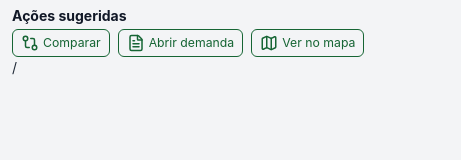
Test: AcoesSugeridas › navega para o destino de cada tipo e ignora tipo desconhecido
Click the button "Comparar".
click(61, 43)  # box [12, 29, 110, 57]
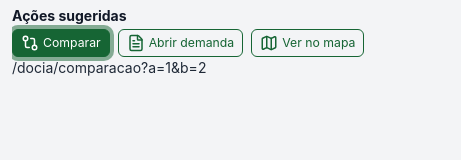
Now the text with test id "local" reads "/docia/comparacao?a=1&b=2", box [12, 59, 206, 76]
Click the button "Abrir demanda".
click(180, 43)  # box [118, 29, 243, 57]
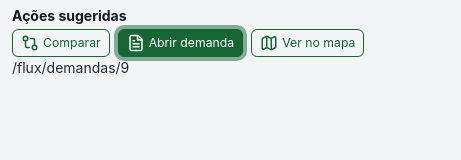
Now the text with test id "local" reads "/flux/demandas/9", box [12, 59, 129, 76]
Click the button "Ver no mapa".
click(308, 43)  # box [251, 29, 364, 57]
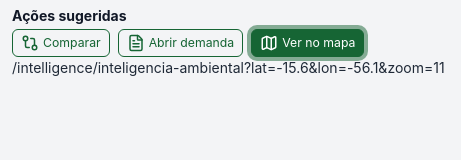
Now the text with test id "local" reads "/intelligence/inteligencia-ambiental?lat=-15.6&lon=-56.1&zoom=11", box [12, 59, 445, 76]
